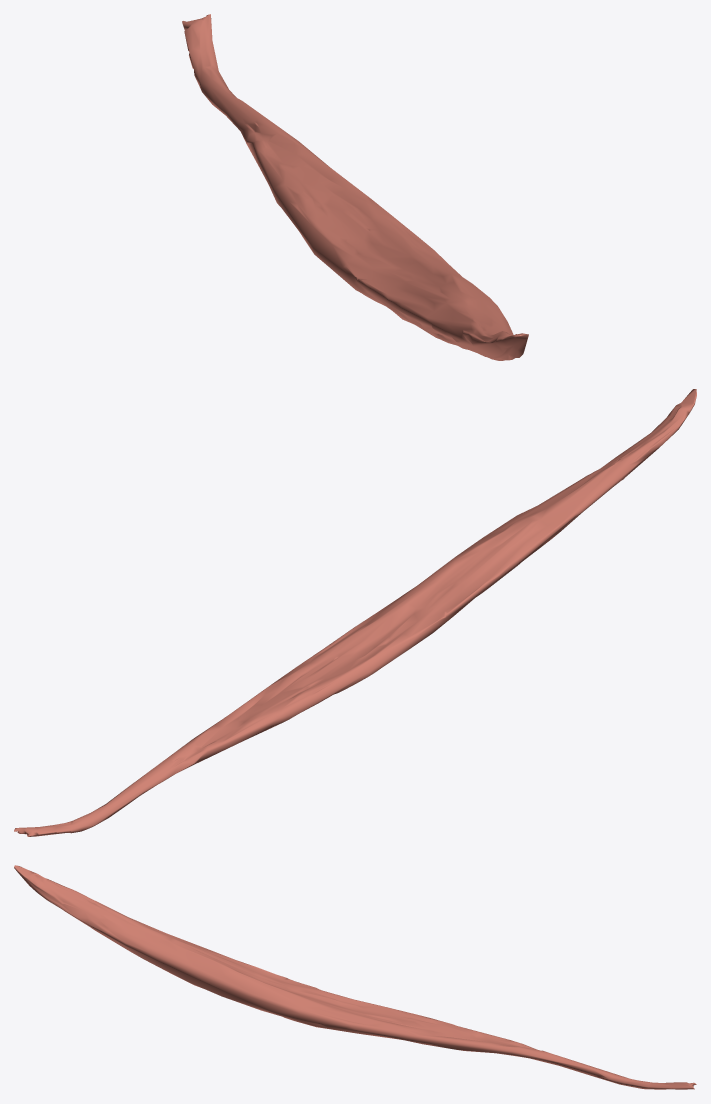
3 renders of one model, top to bottom at view 1: azimuth 30°, elevation 25°; view 2: azimuth 150°, elevation 25°; view 3: azimuth 270°, elevation 25°, orthographic. The views are drawn at different scales.
Parts seen in each view (by area): view 1: 左侧桡侧腕屈肌; view 2: 左侧桡侧腕屈肌; view 3: 左侧桡侧腕屈肌.
Part boxes in pixels (bbox=[...]): 左侧桡侧腕屈肌: bbox=[182, 14, 528, 360]; 左侧桡侧腕屈肌: bbox=[14, 389, 696, 836]; 左侧桡侧腕屈肌: bbox=[14, 865, 696, 1089].
Bounding box in the file's own units: 0.1335 × 0.0996 × 0.4211.
